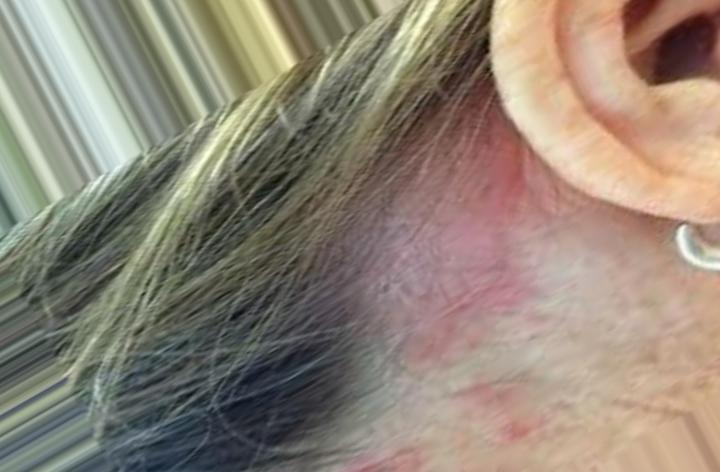Contact Dermatitis: (293, 74, 514, 409)
